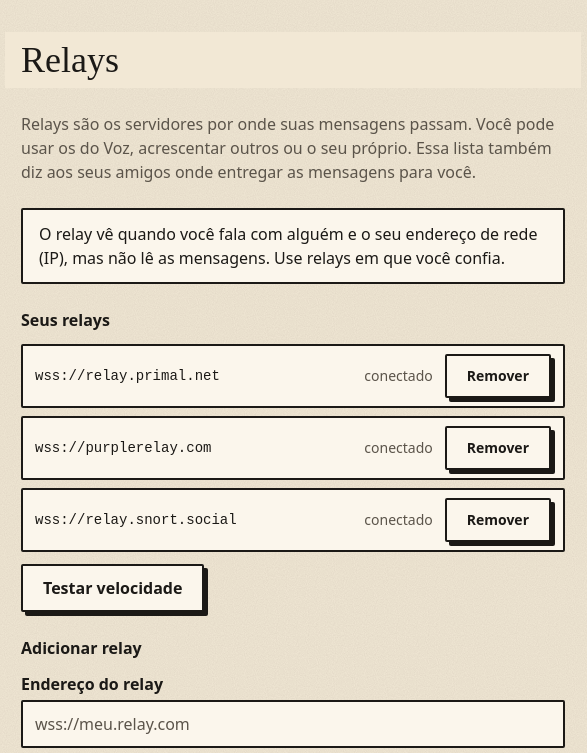
tela de relays › endereco invalido, repetido e sexto relay sao recusados com explicacao
Type "http://x.com" into the field labelled "Endereço do relay" at {"x": 293, "y": 724}, box [21,700,565,748]
(page scrolled)
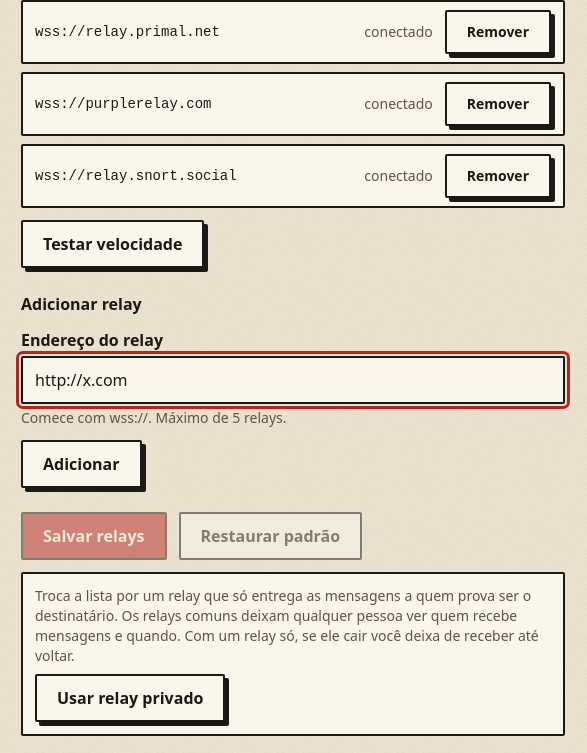
Click the button "Adicionar" at {"x": 81, "y": 464}, box [21,440,142,488]
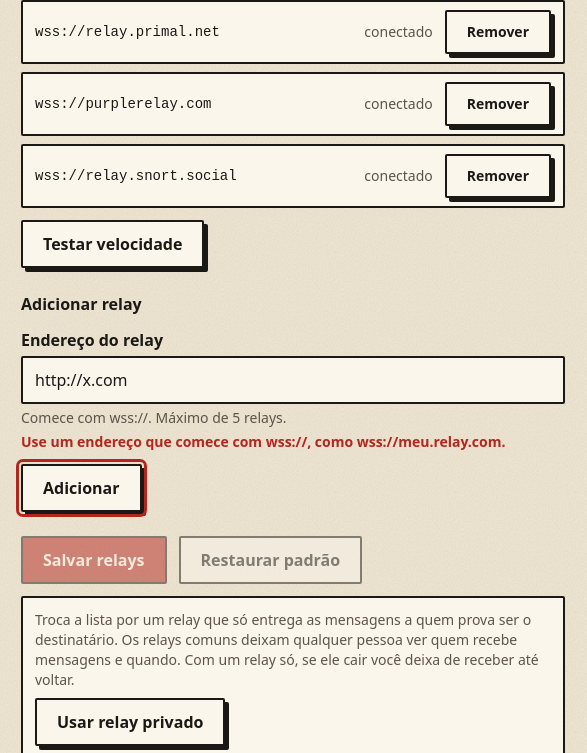
Check: the text "comece com wss://" is shown, box [21,432,506,451]
Replace the text in the field labelled "Endereço do relay" with "wss://relay.primal.net" at {"x": 293, "y": 380}, box [21,356,565,404]
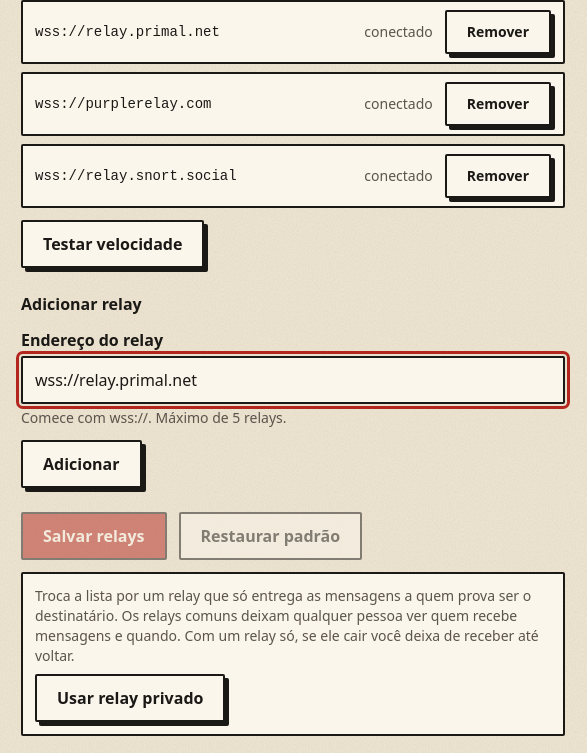
Click the button "Adicionar" at {"x": 81, "y": 464}, box [21,440,142,488]
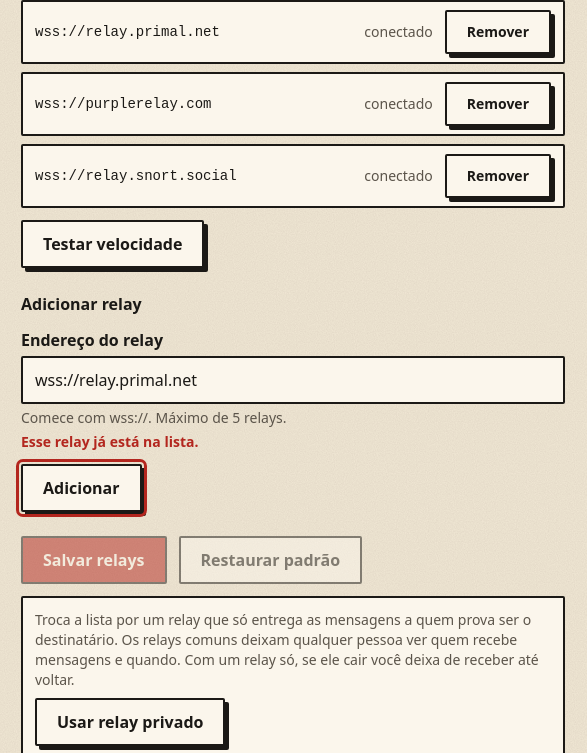
Check: the text "Esse relay já está na lista." is shown, box [21,432,198,451]
